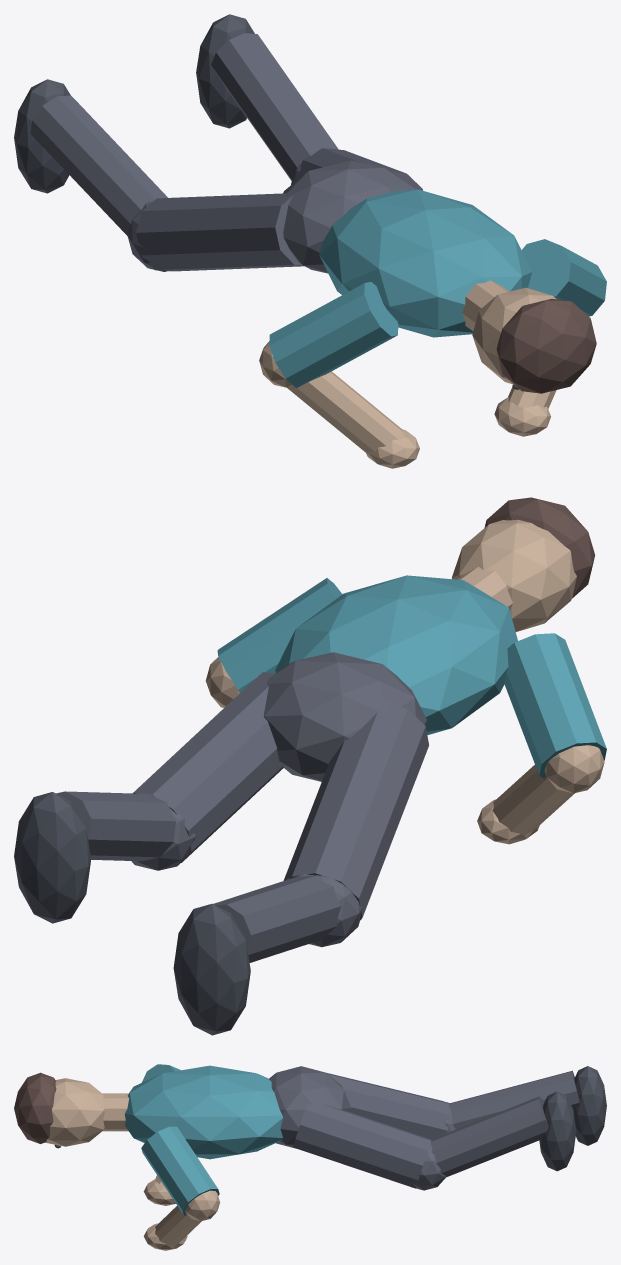
3 views of the same model, one above another, from view 1: azimuth 30°, elevation 25°; view 2: azimuth 150°, elevation 25°; view 3: azimuth 270°, elevation 25° (orthographic). The views are drawn at different scales.
Visible parts, largest first — view 1: world; view 2: world; view 3: world.
Part boxes in pixels (left/top/right/bottom): world: left=14, top=14, right=606, bottom=468; world: left=14, top=497, right=606, bottom=1035; world: left=14, top=1064, right=606, bottom=1250.
Size of the model in its own units: 0.93 by 0.57 by 2.01.
